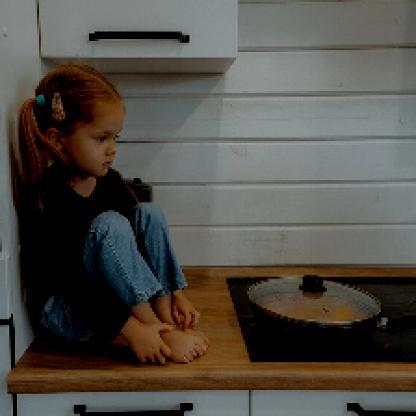child: (17, 62, 210, 365)
